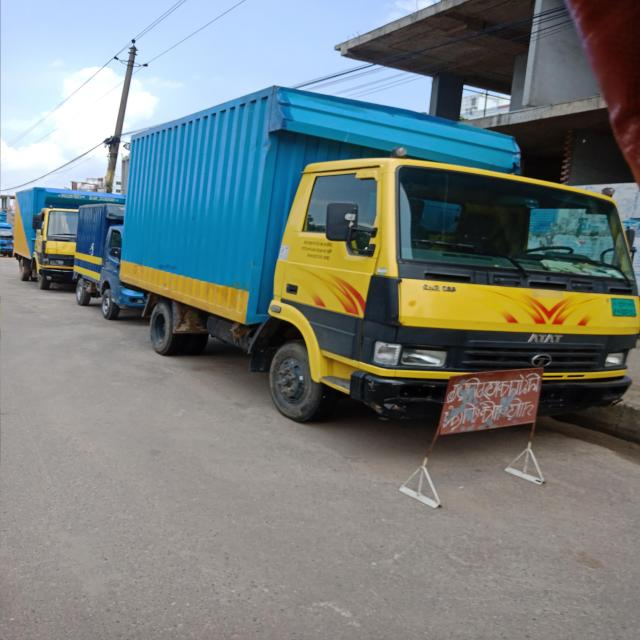truck: (120, 85, 640, 421), (12, 188, 122, 287), (73, 203, 146, 319)
